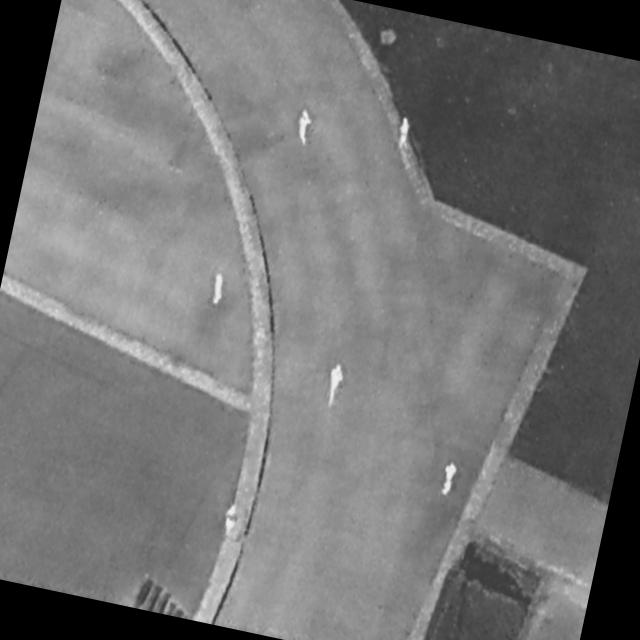person: (322, 361, 350, 411), (291, 106, 318, 148), (205, 270, 231, 311), (392, 115, 416, 152), (438, 458, 461, 496), (221, 505, 241, 538)
